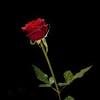rose: (22, 17, 51, 43)
